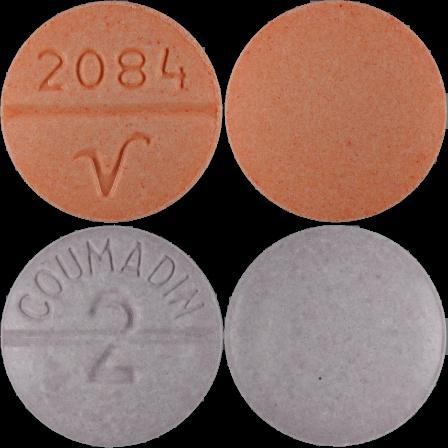67544-371: (0, 0, 224, 224)
